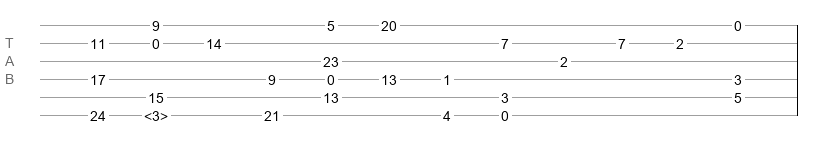0: (152, 36, 160, 46), (327, 72, 335, 82), (501, 108, 509, 118), (734, 18, 742, 28)
1: (443, 72, 451, 82)
11: (90, 36, 106, 46)
13: (323, 90, 339, 100), (381, 72, 397, 82)
14: (206, 36, 222, 46)
15: (148, 90, 164, 100)
17: (90, 72, 106, 82)
2: (560, 54, 568, 64), (676, 36, 684, 46)
20: (381, 18, 397, 28)
21: (264, 108, 280, 118)
23: (323, 54, 339, 64)
24: (90, 108, 106, 118)
3: (501, 90, 509, 100), (734, 72, 742, 82)
4: (443, 108, 451, 118)
5: (327, 18, 335, 28), (734, 90, 742, 100)
7: (501, 36, 509, 46), (618, 36, 626, 46)
9: (152, 18, 160, 28), (268, 72, 276, 82)
harmonic: (144, 108, 168, 118)
